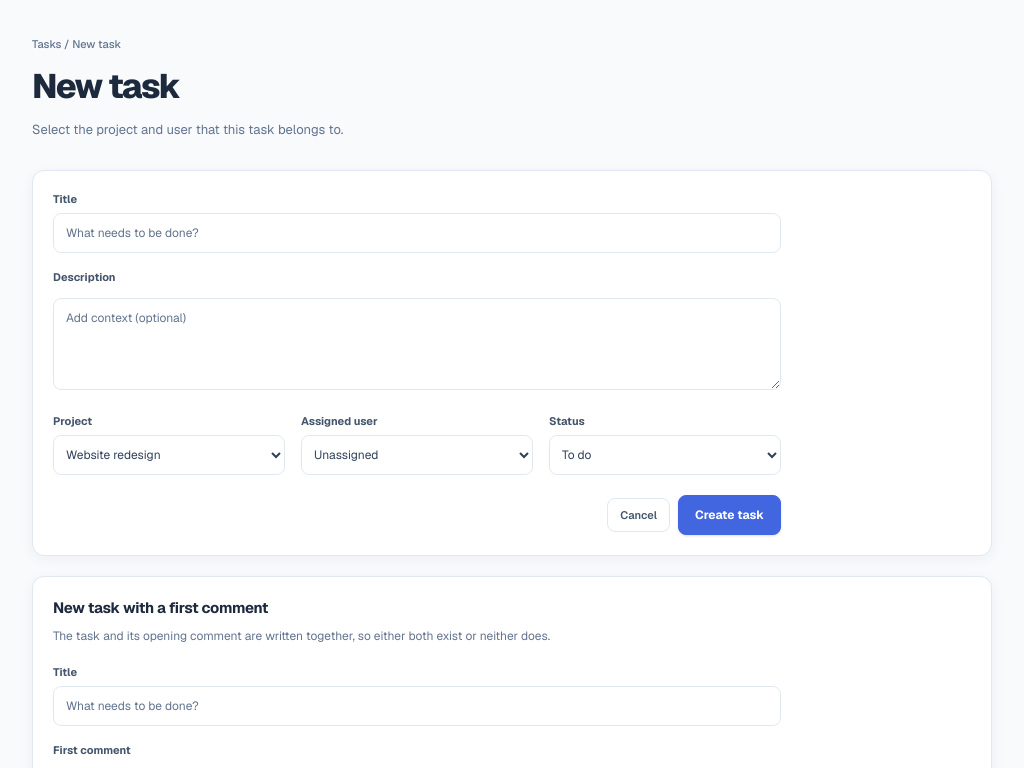
Test: TaskForm (server-side validation) › marks the assignee field invalid when the assignee is gone
This screenshot has width=1024, height=768.
Type "Some work" into the 1st field labelled "Title" at (417, 233), box x1=53 y1=213 x2=781 y2=253
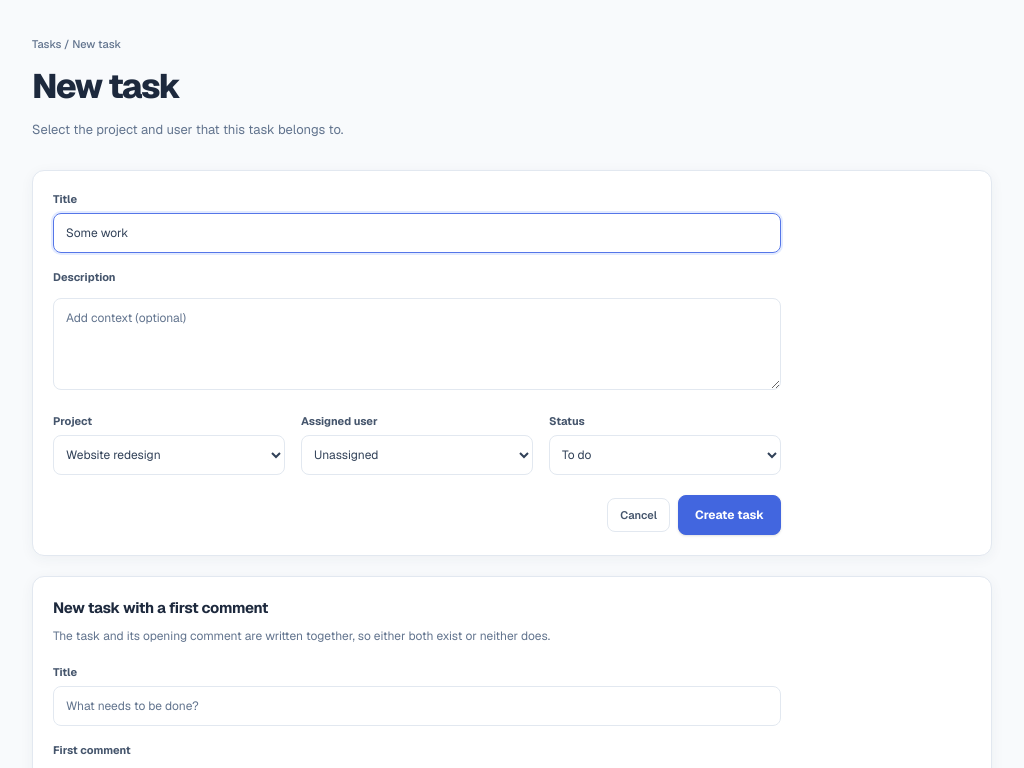
Click the button "Create task" at (730, 515), box x1=678 y1=495 x2=781 y2=535
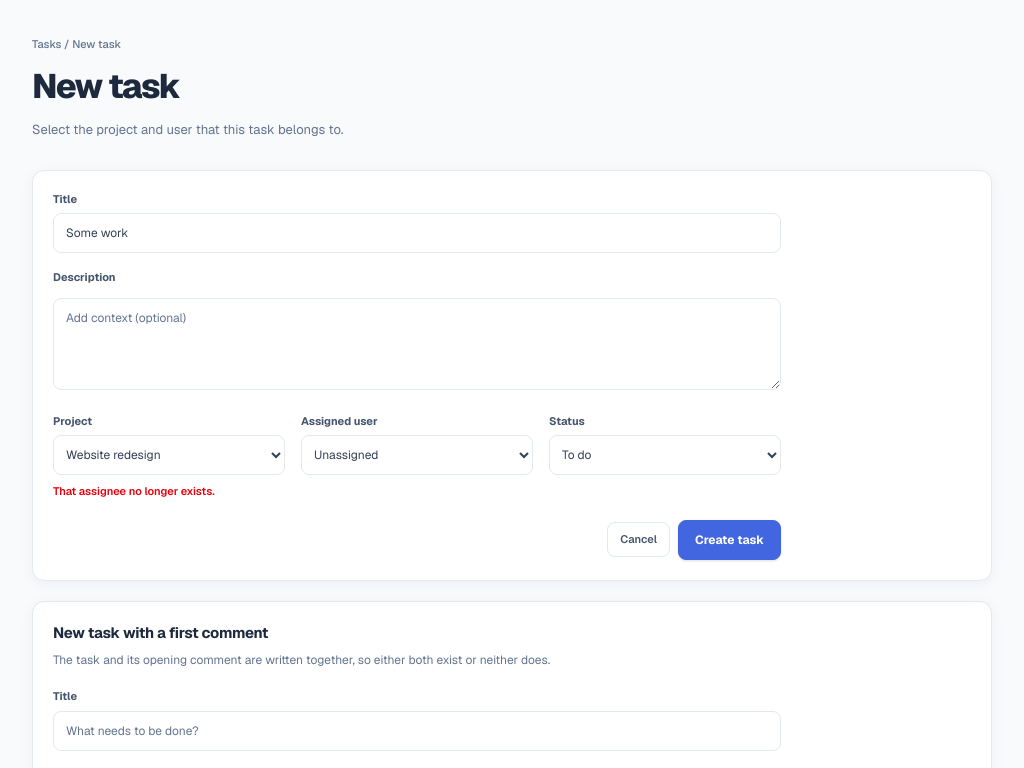
Expected: the text "That assignee no longer exists." is shown, x1=53 y1=484 x2=215 y2=498
